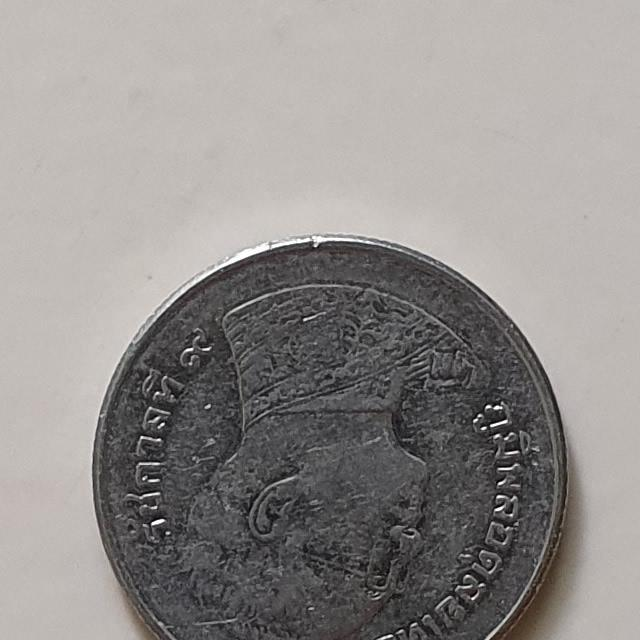1 Bath: (76, 220, 578, 640)
